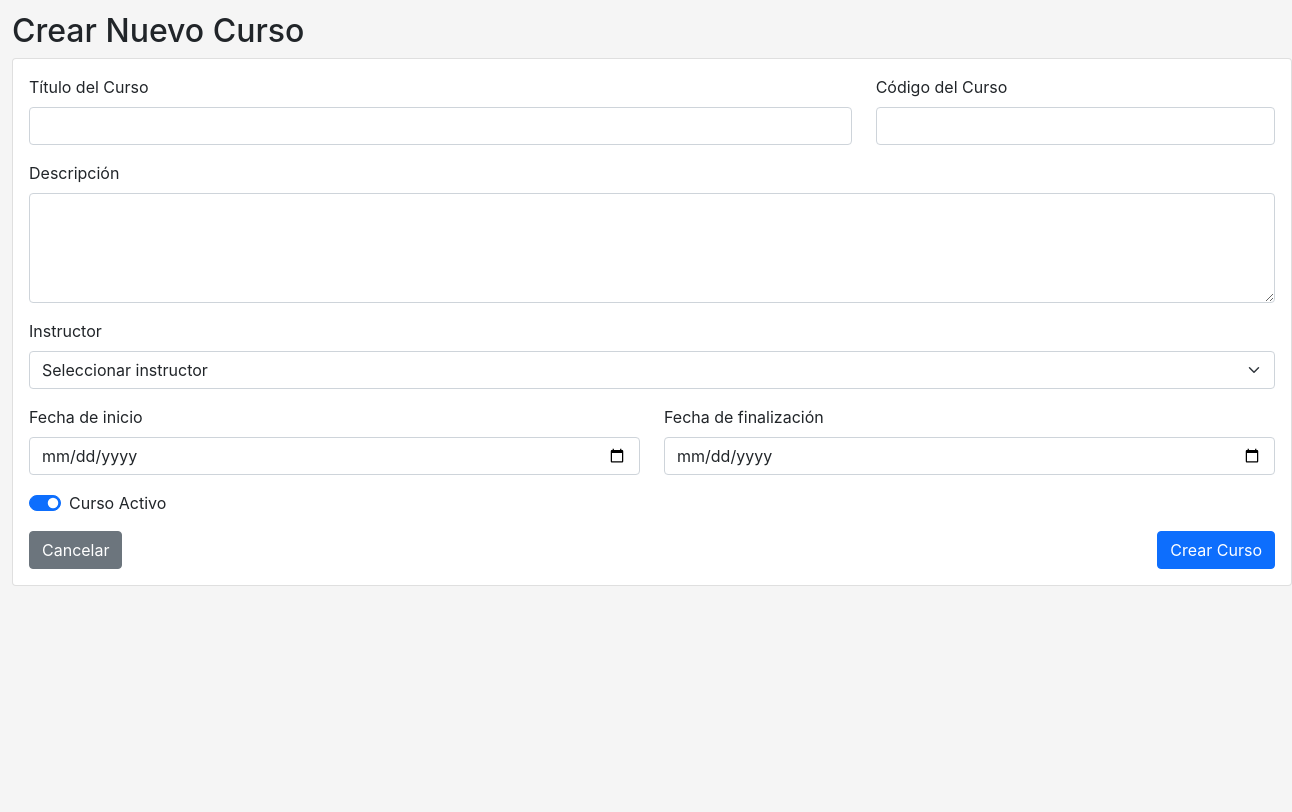
Test: CourseForm Component › validates form fields on submit
Try to submit the form without filling required fields
What coordinates should you click on to do the following:
click the button "Crear Curso"
I would click on:
 (1216, 550)
Its box is [1157, 531, 1275, 569].
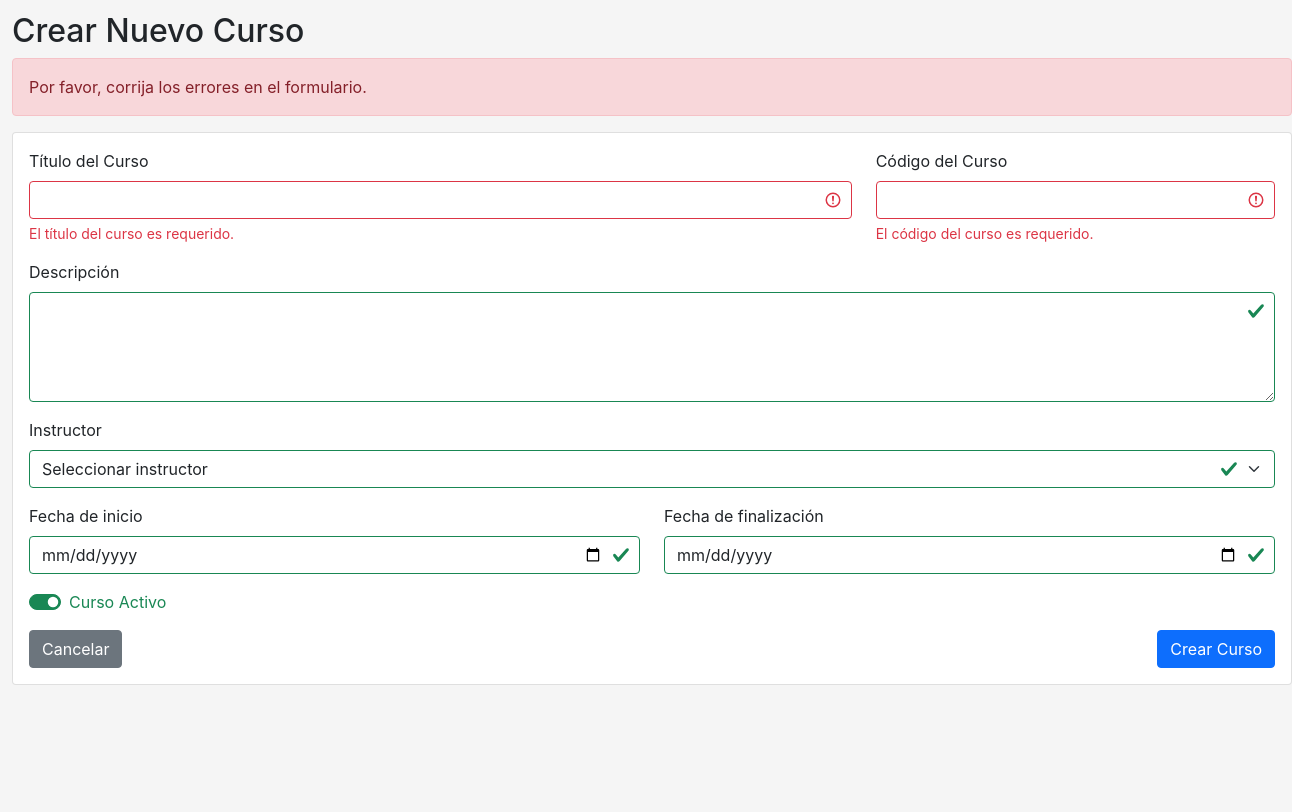
Expected: the text "El título del curso es requerido." is shown, [29, 225, 234, 242]
Expected: the text "El código del curso es requerido." is shown, [876, 225, 1094, 242]
